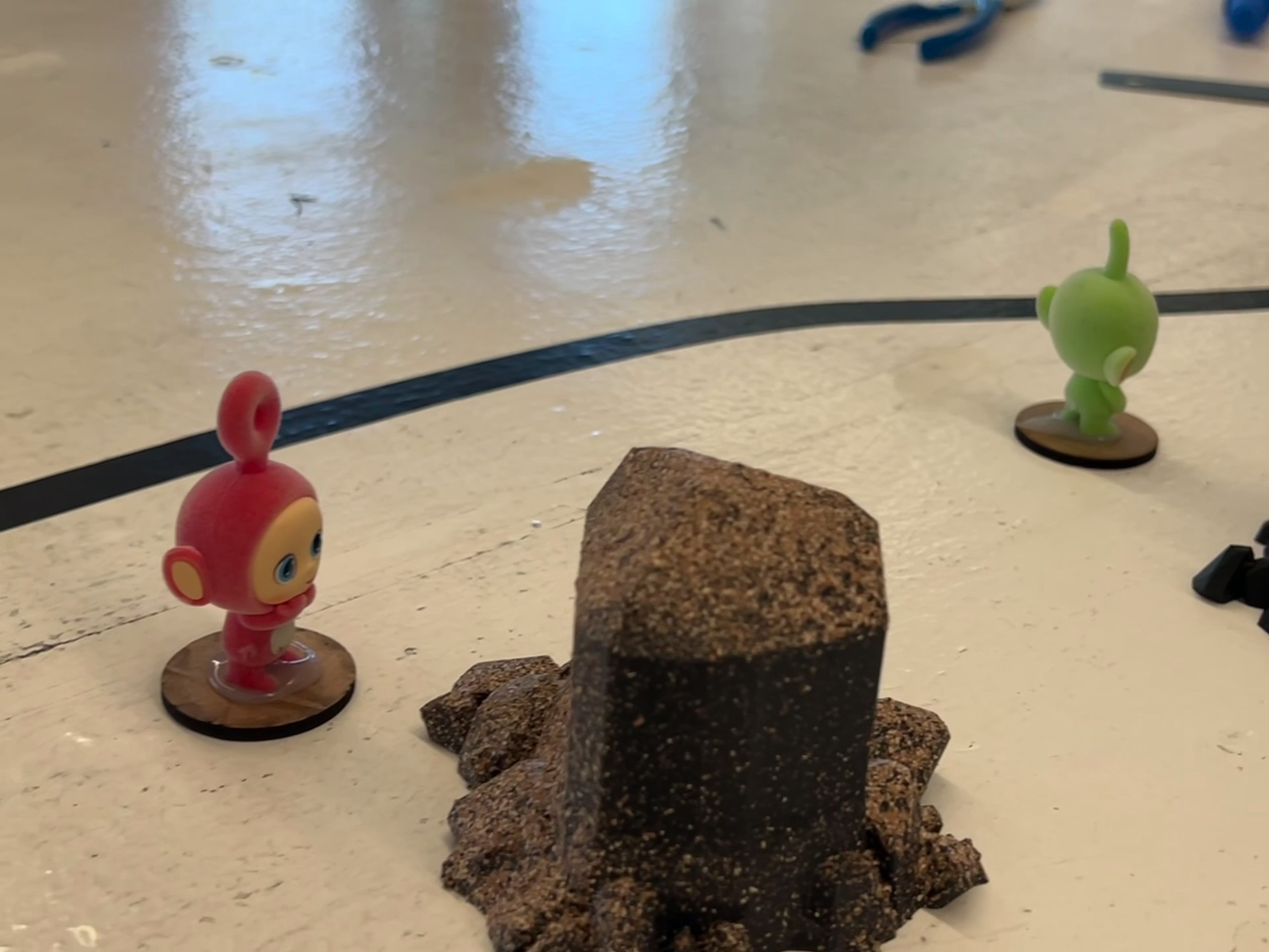teletubby: (161, 372, 323, 693), (1036, 219, 1159, 439)
